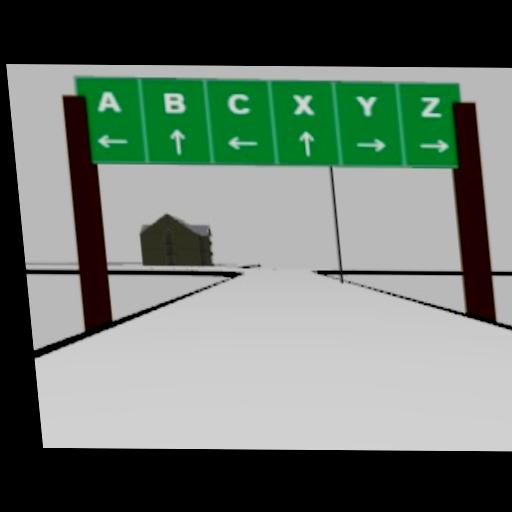A: (94, 89, 121, 112)
B: (163, 92, 187, 115)
C: (225, 92, 250, 115)
Left: (224, 135, 259, 149), (95, 134, 128, 148)
Right: (354, 138, 387, 152), (418, 138, 449, 152)
Straight: (168, 128, 187, 155), (296, 130, 315, 155)
X: (291, 93, 314, 114)
Y: (353, 93, 378, 116)
Z: (418, 96, 441, 117)
